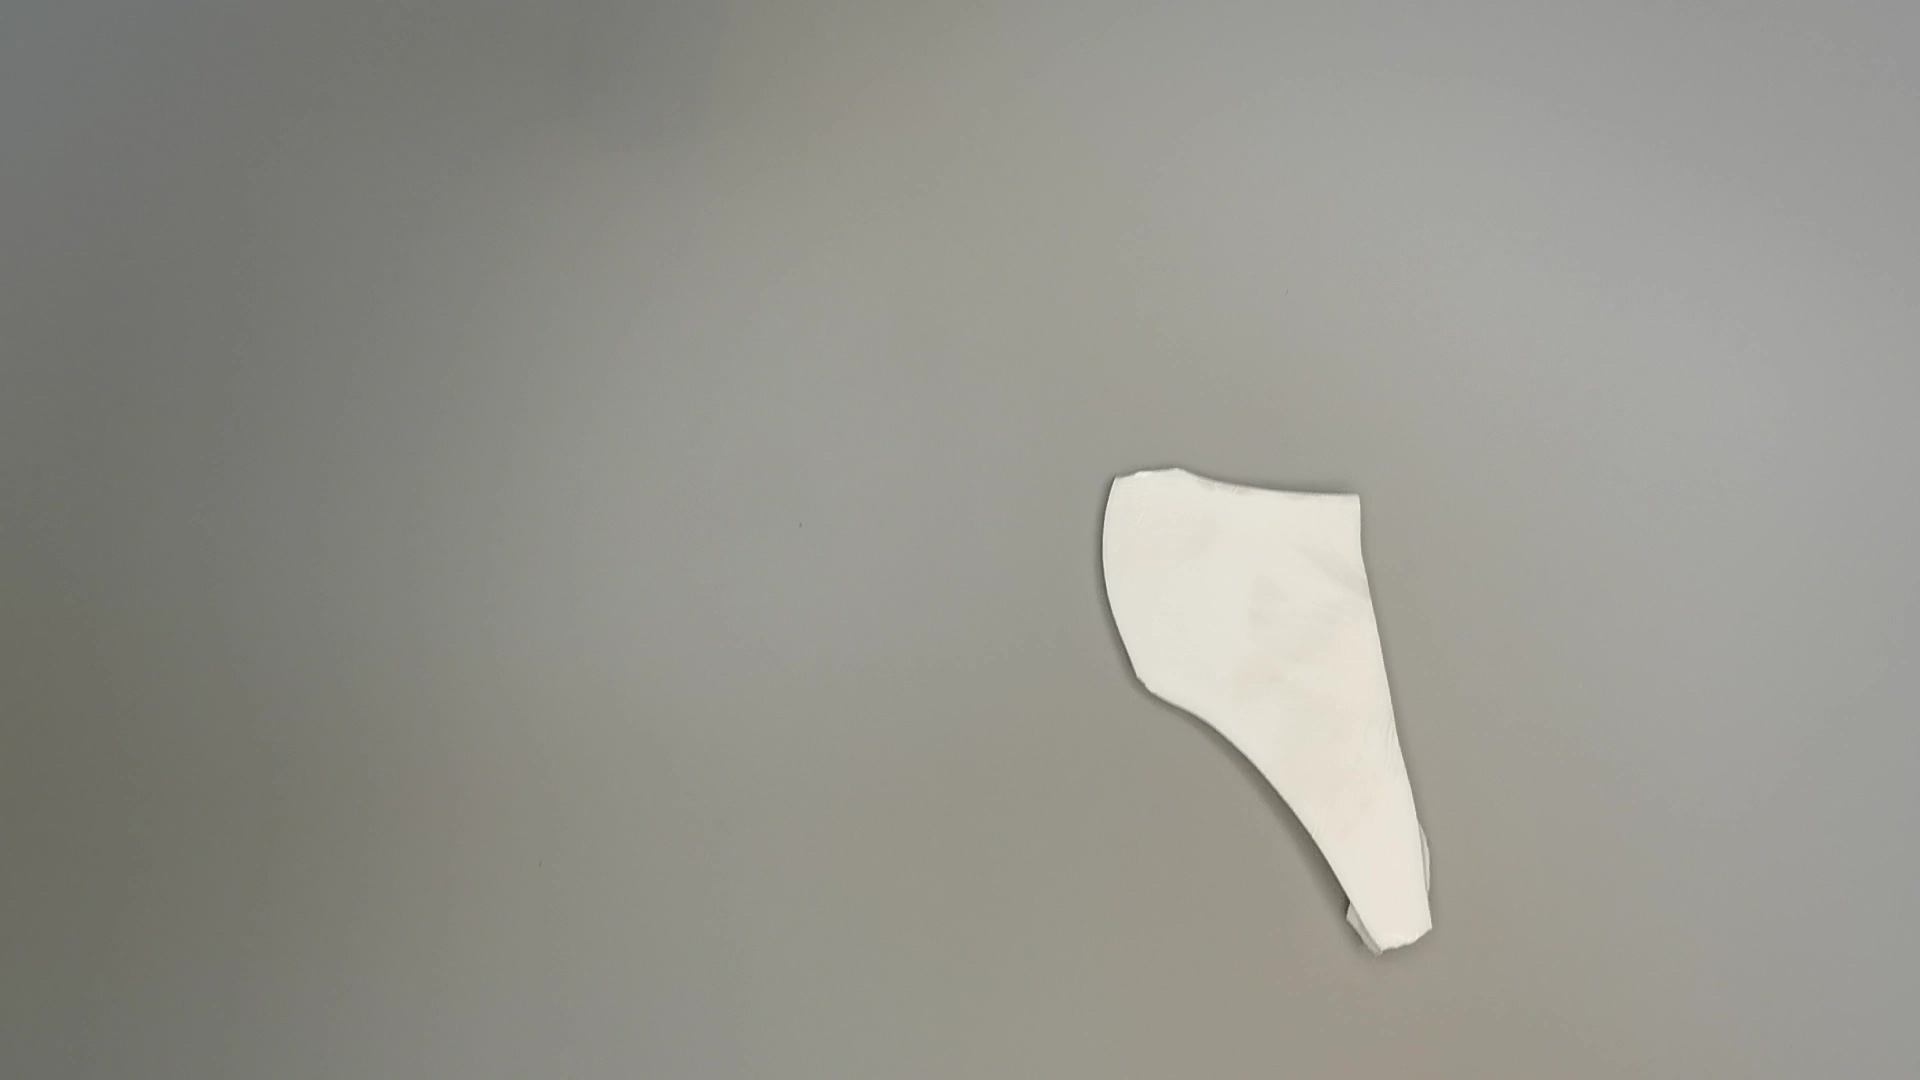ceramic: (1088, 463, 1440, 961)
